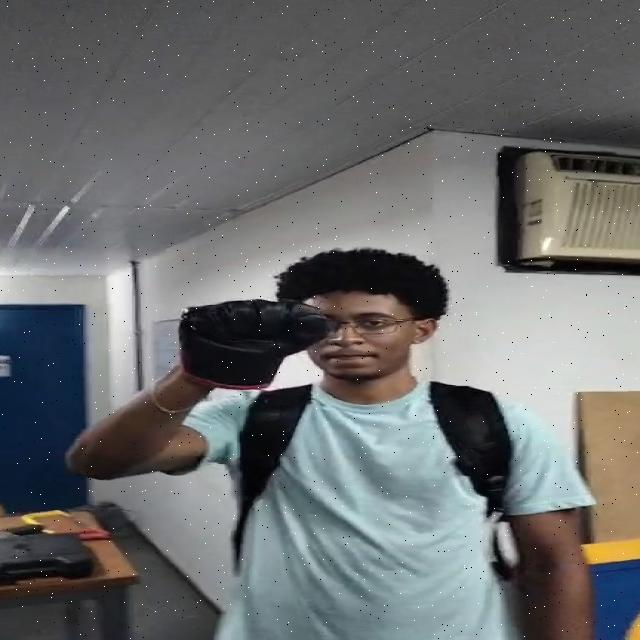Gloves: (183, 299, 333, 393)
